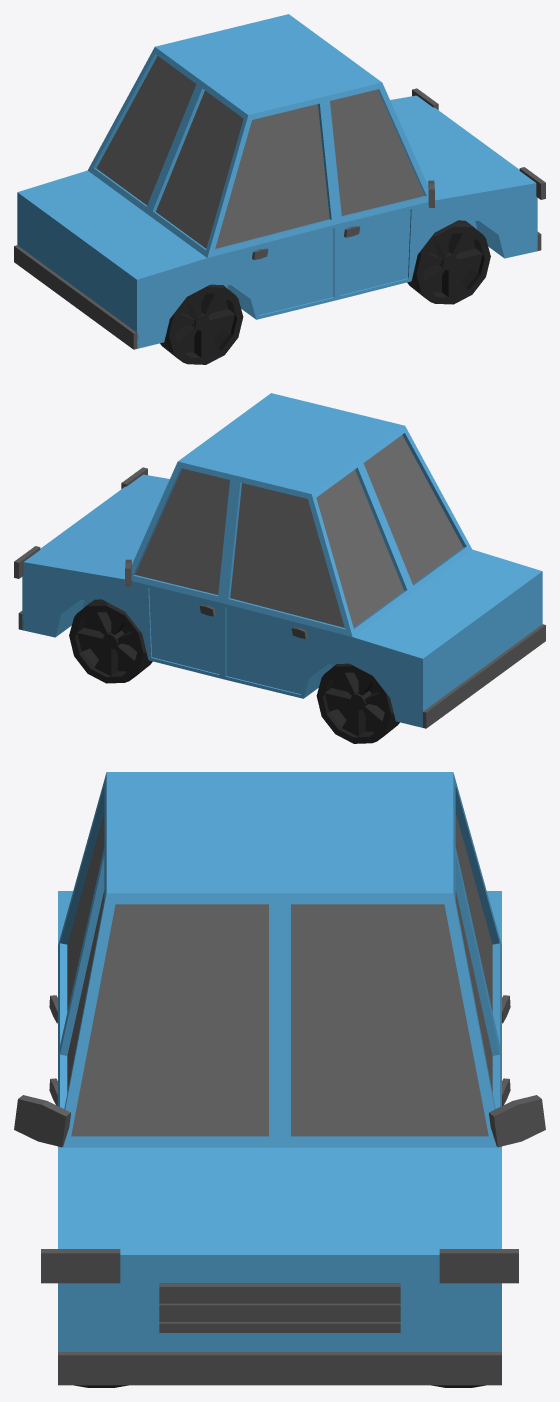
The model's file is Car04.fbx.
3 renders of one model, top to bottom at view 1: azimuth 30°, elevation 25°; view 2: azimuth 150°, elevation 25°; view 3: azimuth 270°, elevation 25°, orthographic. The views are drawn at different scales.
Parts seen in each view (by area): view 1: Car_04; view 2: Car_04; view 3: Car_04.
Part boxes in pixels (left/top/right/bottom): Car_04: left=14, top=14, right=545, bottom=364; Car_04: left=14, top=393, right=545, bottom=743; Car_04: left=14, top=772, right=545, bottom=1387.
Size of the model in its own units: 16.34 by 8.87 by 9.93.
